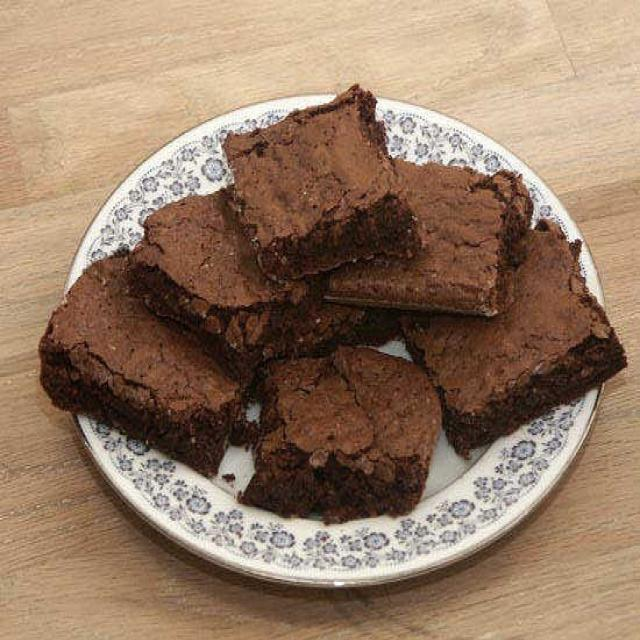蛋糕甜品: (28, 53, 632, 604)
